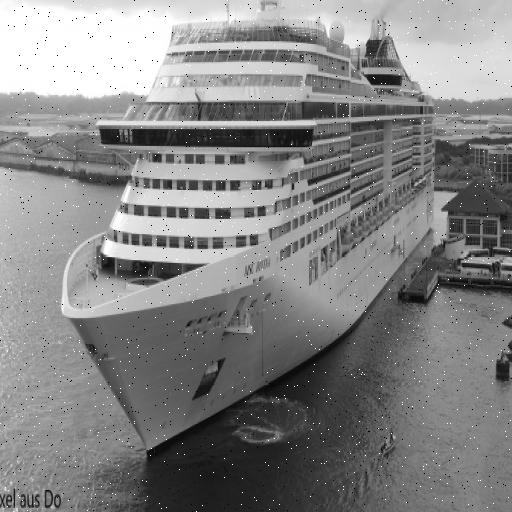cruises: (57, 1, 440, 463)
